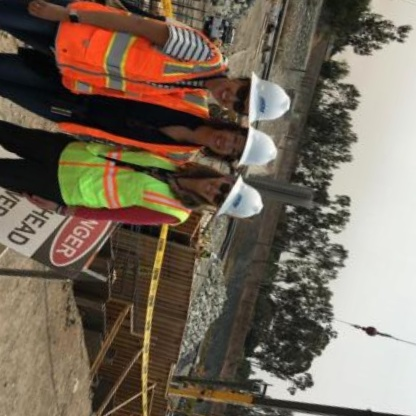vest: (47, 0, 233, 115), (49, 58, 219, 172), (48, 125, 209, 239)
white: (232, 66, 304, 135), (208, 166, 274, 231), (222, 118, 287, 177)
